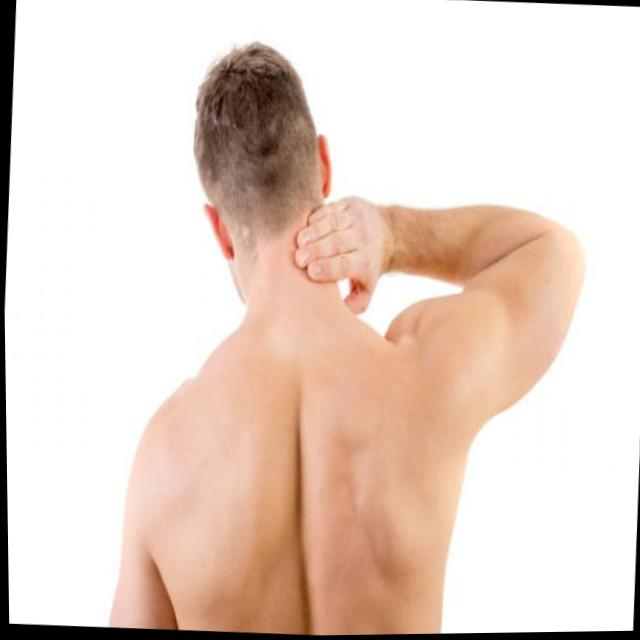no helmet: (181, 40, 345, 313)
